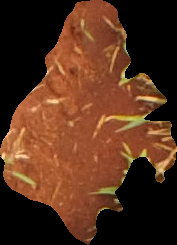soil: (2, 3, 175, 242)
